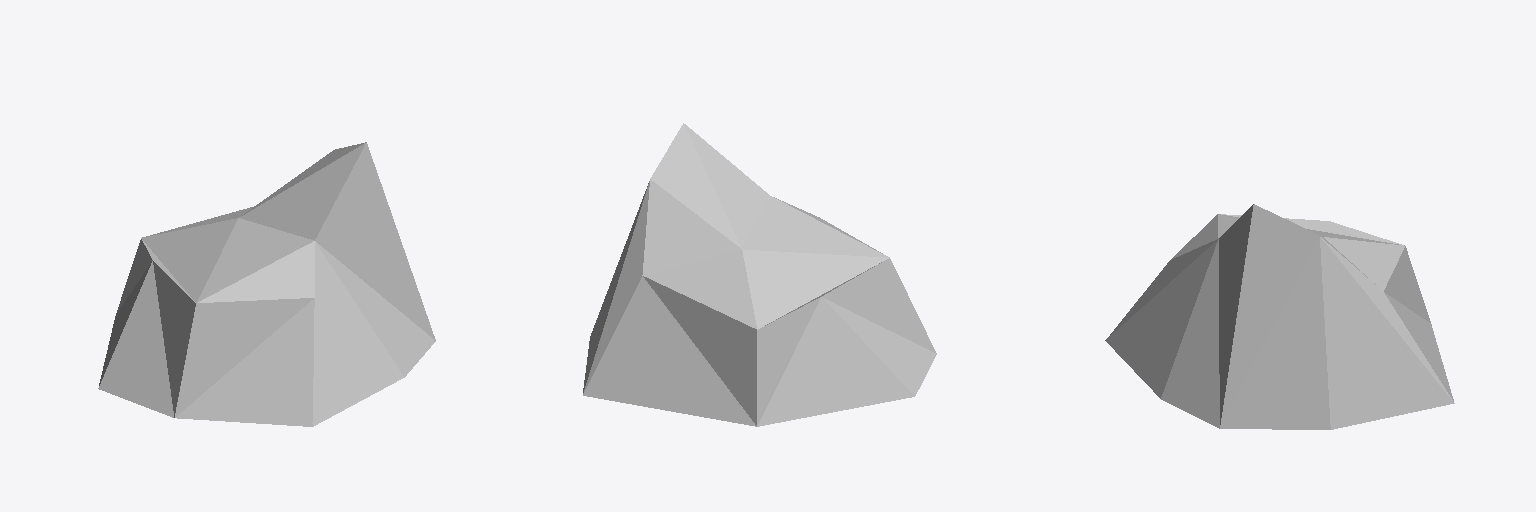
File: Rock_2_Big.obj
3 renders of one model, left to right at view 1: azimuth 30°, elevation 25°; view 2: azimuth 150°, elevation 25°; view 3: azimuth 270°, elevation 25°, orthographic.
Visible parts, largest first — view 1: Rock_Big_pCube8; view 2: Rock_Big_pCube8; view 3: Rock_Big_pCube8.
Boxes of the visible parts, <box> form: Rock_Big_pCube8: <box>98,142,435,426</box>; Rock_Big_pCube8: <box>583,123,936,426</box>; Rock_Big_pCube8: <box>1105,204,1454,429</box>.
Size of the model in its own units: 3.93 by 2.46 by 3.9.